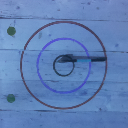Axe Tip: (57, 58, 71, 60)
